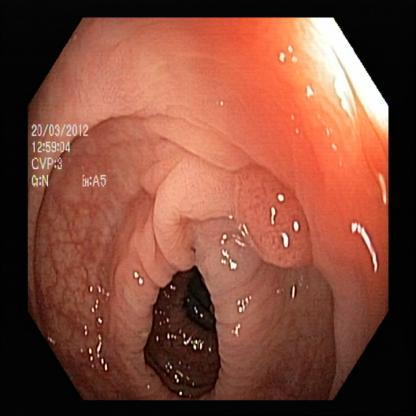Labels: (29, 114, 125, 199)
Polyps: (231, 164, 323, 275)
